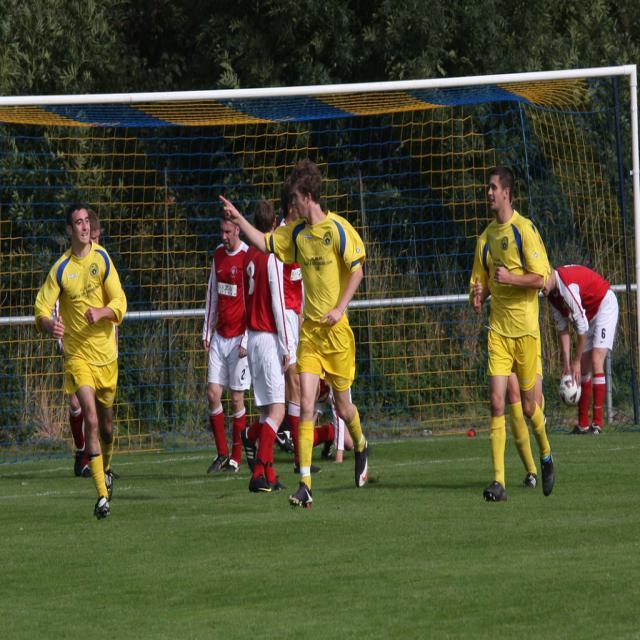football: (561, 368, 587, 411)
